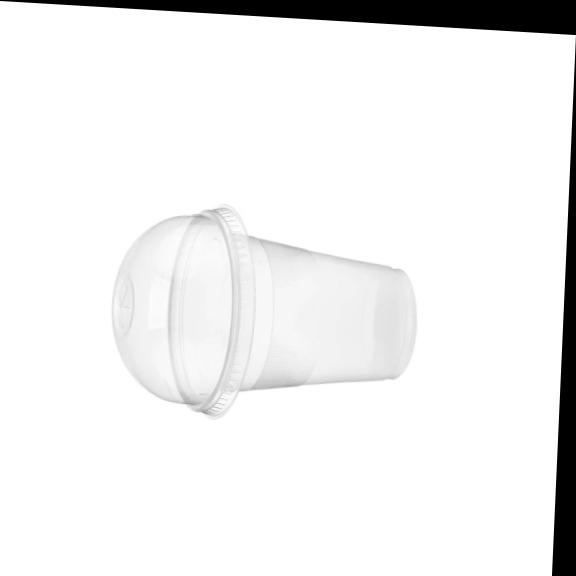Plastik: (113, 208, 415, 416)
